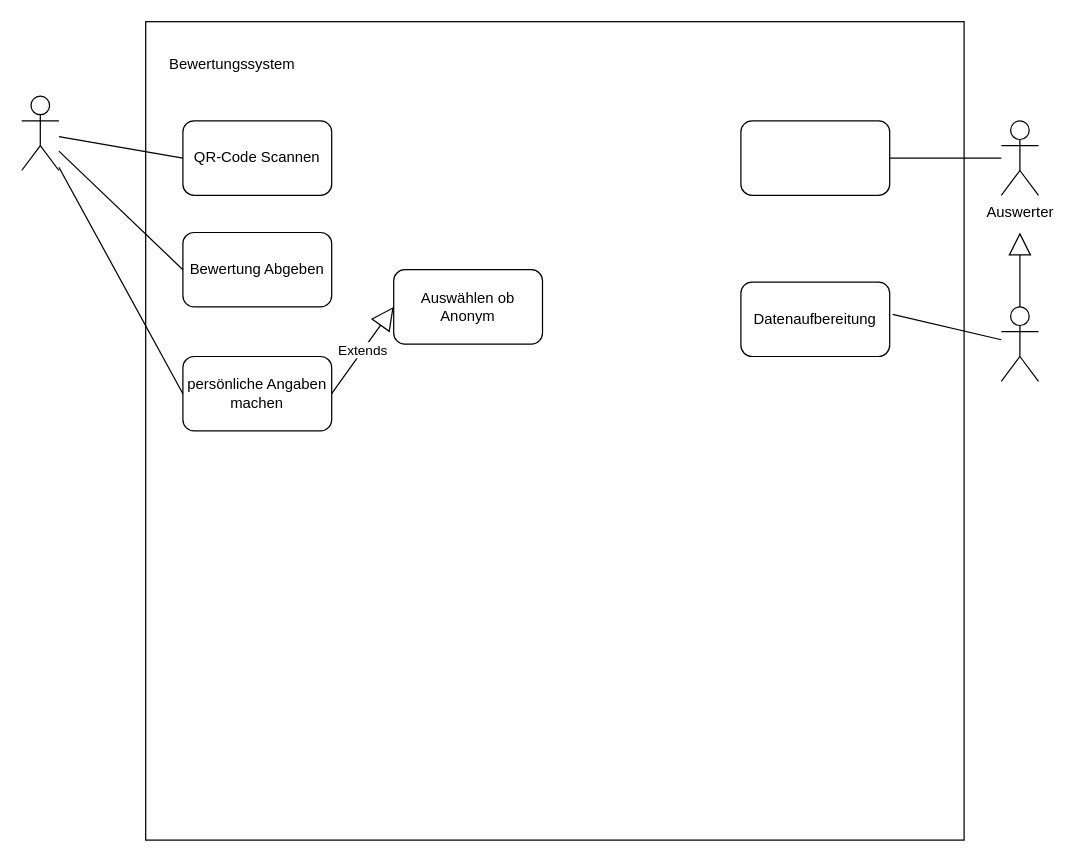
Image size: 1075x862. Some labels were removed from this diagram. The box of each missing label's shape, as (x1, y1, x2, y2) in pixels:
Azubi: (20, 95, 59, 170)
System: (1000, 306, 1038, 381)
Zugriff auf Daten: (740, 120, 890, 195)
